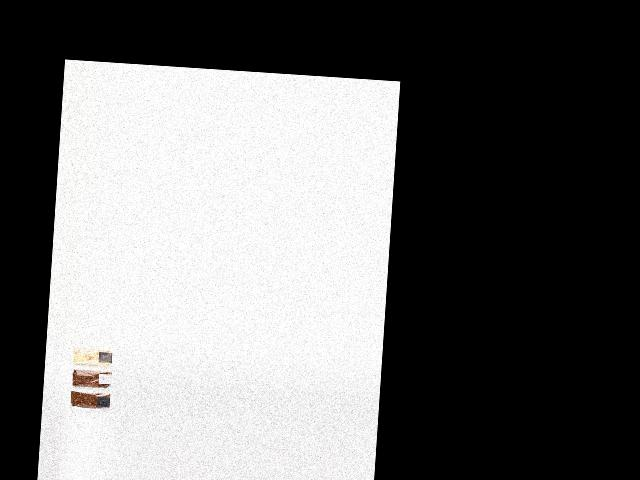chocolate: (68, 391, 110, 412)
